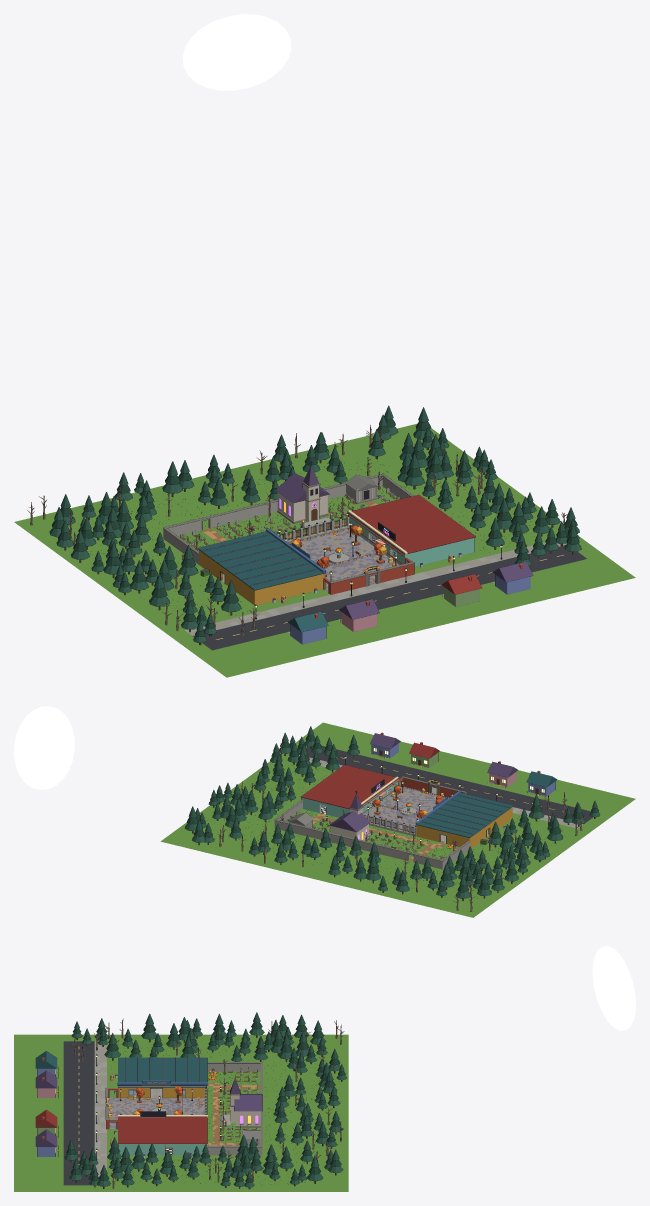
File: pumpkin_hollow.glb
3 renders of one model, top to bottom at view 1: azimuth 30°, elevation 25°; view 2: azimuth 150°, elevation 25°; view 3: azimuth 270°, elevation 25°, orthographic. The views are drawn at different scales.
Visible parts, largest first — view 1: Outside, Cemetery, Garage, Diner, Square; view 2: Outside, Cemetery, Garage, Diner, Square; view 3: Outside, Cemetery, Garage, Diner, Square.
Part boxes in pixels (x1,y1,x2,y2): Outside: (14, 14, 635, 677); Cemetery: (163, 461, 413, 564); Garage: (197, 528, 325, 605); Diner: (347, 494, 475, 566); Square: (276, 515, 414, 594); Outside: (14, 706, 635, 917); Cemetery: (274, 790, 470, 869); Garage: (415, 790, 513, 848); Diner: (301, 765, 398, 817); Square: (362, 776, 466, 836); Outside: (14, 946, 635, 1191); Cemetery: (206, 1059, 262, 1155); Garage: (117, 1057, 207, 1097); Diner: (117, 1111, 207, 1155); Square: (105, 1086, 207, 1129).
Size of what is drawn, in the model's own units: 128 by 83.18 by 201.
